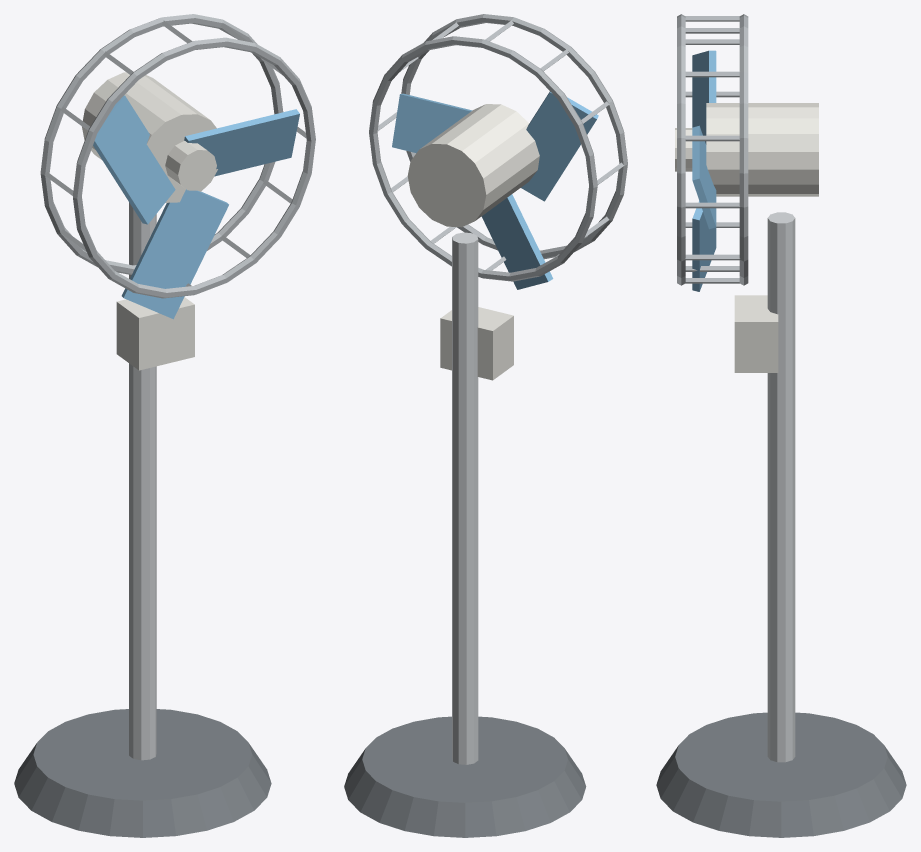
File: lome-ventilateur.glb
3 renders of one model, left to right at view 1: azimuth 30°, elevation 25°; view 2: azimuth 150°, elevation 25°; view 3: azimuth 270°, elevation 25°, orthographic. The views are drawn at different scales.
Visible parts, largest first — view 1: socle, mat, grille-avant, pale.002, grille-arriere, pale.001, moteur, commandes, pale, capuchon; view 2: socle, mat, moteur, grille-arriere, grille-avant, pale.001, commandes, pale.002, pale; view 3: socle, mat, moteur, commandes, grille-arriere, grille-avant, pale.001, pale, pale.002.
Part boxes in pixels (x1=…): socle: x1=14, y1=709, x2=271, y2=837; mat: x1=129, y1=202, x2=156, y2=760; grille-avant: x1=73, y1=37, x2=315, y2=298; pale.002: x1=121, y1=189, x2=228, y2=319; grille-arriere: x1=40, y1=14, x2=283, y2=274; pale.001: x1=93, y1=95, x2=175, y2=224; moteur: x1=82, y1=72, x2=217, y2=202; commandes: x1=116, y1=297, x2=194, y2=370; pale: x1=184, y1=109, x2=299, y2=176; capuchon: x1=165, y1=140, x2=216, y2=190; socle: x1=344, y1=716, x2=586, y2=837; mat: x1=452, y1=232, x2=478, y2=764; moteur: x1=407, y1=104, x2=539, y2=227; grille-arriere: x1=369, y1=36, x2=597, y2=281; grille-avant: x1=401, y1=14, x2=627, y2=259; pale.001: x1=521, y1=91, x2=598, y2=201; commandes: x1=440, y1=307, x2=513, y2=380; pale.002: x1=481, y1=194, x2=553, y2=289; pale: x1=392, y1=93, x2=472, y2=153; socle: x1=656, y1=712, x2=906, y2=837; mat: x1=767, y1=212, x2=795, y2=762; moteur: x1=706, y1=103, x2=818, y2=196; commandes: x1=734, y1=295, x2=778, y2=372; grille-arriere: x1=739, y1=14, x2=748, y2=285; grille-avant: x1=677, y1=14, x2=685, y2=285; pale.001: x1=692, y1=50, x2=716, y2=144; pale: x1=692, y1=125, x2=716, y2=229; pale.002: x1=692, y1=201, x2=716, y2=291.
Bounding box in the file's own units: 0.436 × 1.34 × 0.4.
